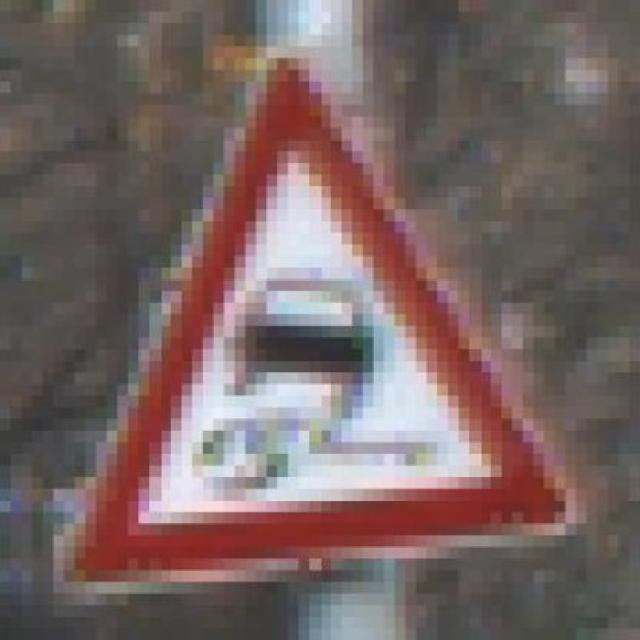Slippery Road Ahead: (42, 46, 576, 594)
